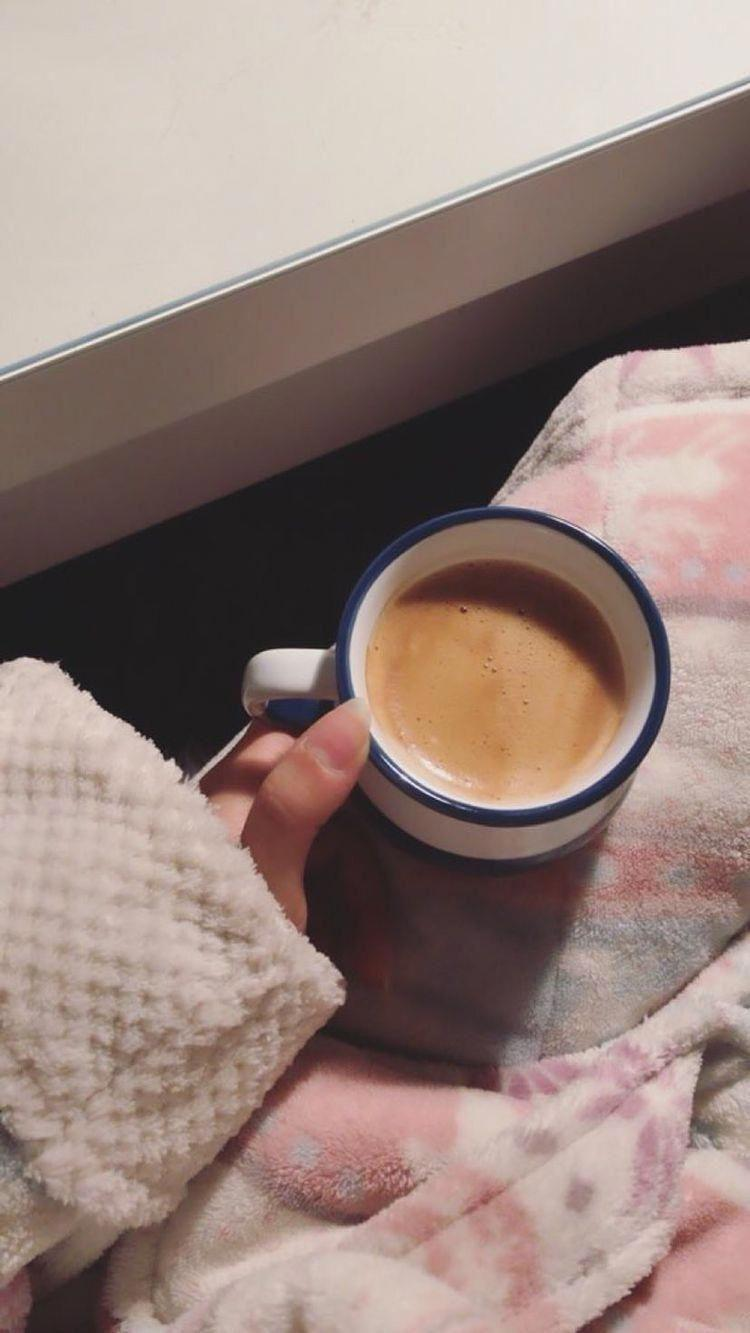cup-handle: (242, 505, 672, 872)
